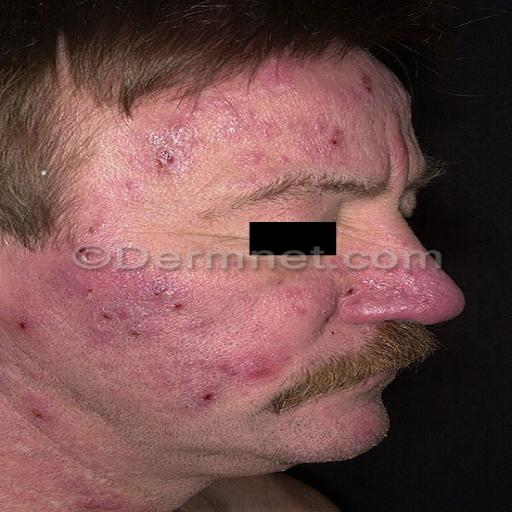Skin_Lesion: (88, 295, 144, 356), (145, 114, 195, 182), (342, 270, 420, 312), (453, 102, 501, 169), (304, 116, 348, 164), (150, 272, 194, 318), (63, 470, 110, 510), (21, 386, 58, 433), (274, 282, 316, 321), (410, 116, 438, 172), (67, 215, 114, 246), (11, 298, 37, 344), (246, 346, 275, 386), (188, 355, 234, 377), (346, 61, 376, 92), (193, 381, 218, 407), (231, 146, 262, 162)
